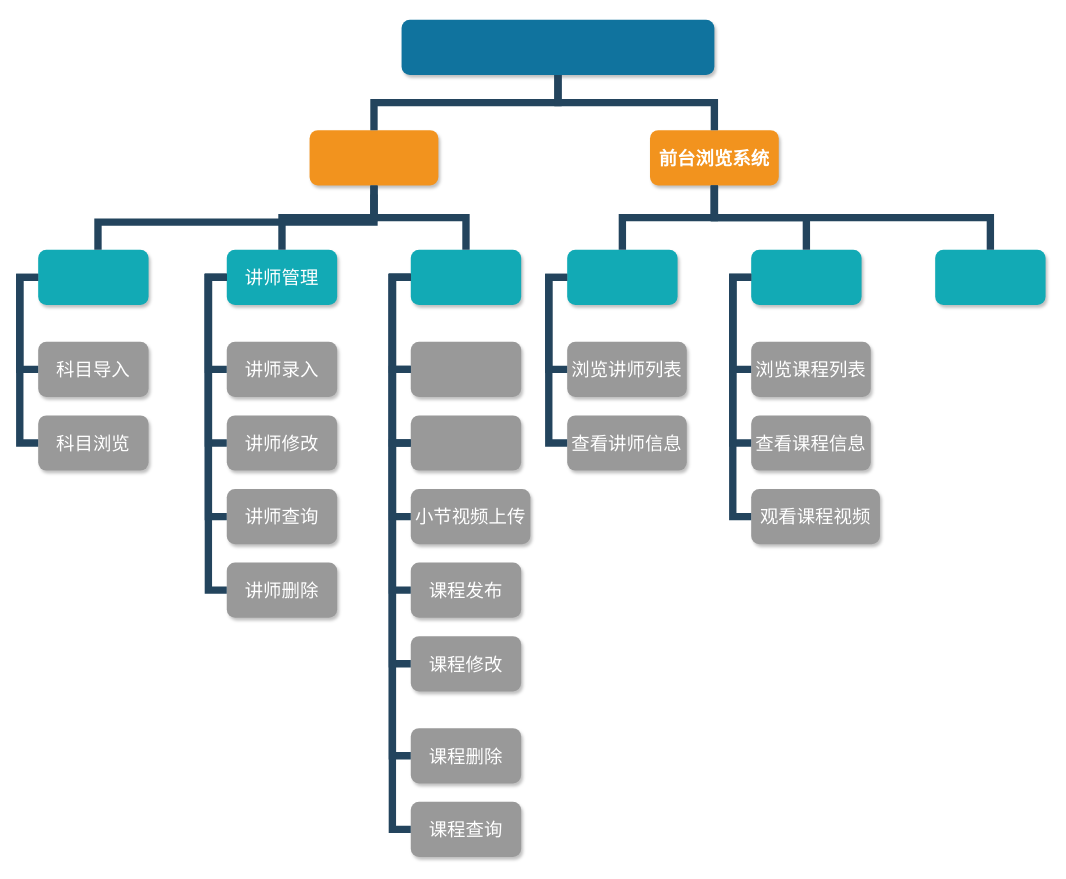
Some shapes in this 1066 by 879 pixel diagram are drawn without their labels. Here are the shapes that lost their labels. From the top down, the centre of each, then its label:
[558,48]: 星辰在线教育系统
[374,158]: 后台管理系统
[94,278]: 科目管理
[466,278]: 课程管理
[623,278]: 讲师浏览
[807,278]: 课程浏览
[991,278]: 首页浏览
[466,370]: 课程录入
[466,444]: 章节编辑
